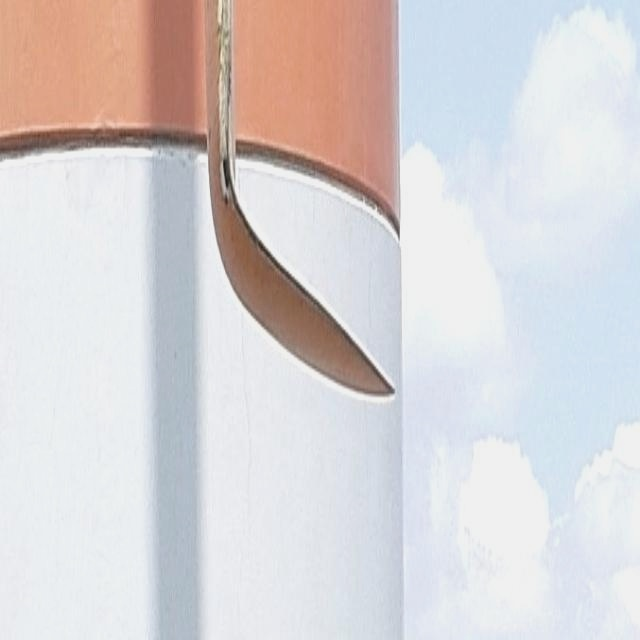EROSION: (194, 14, 330, 297)
